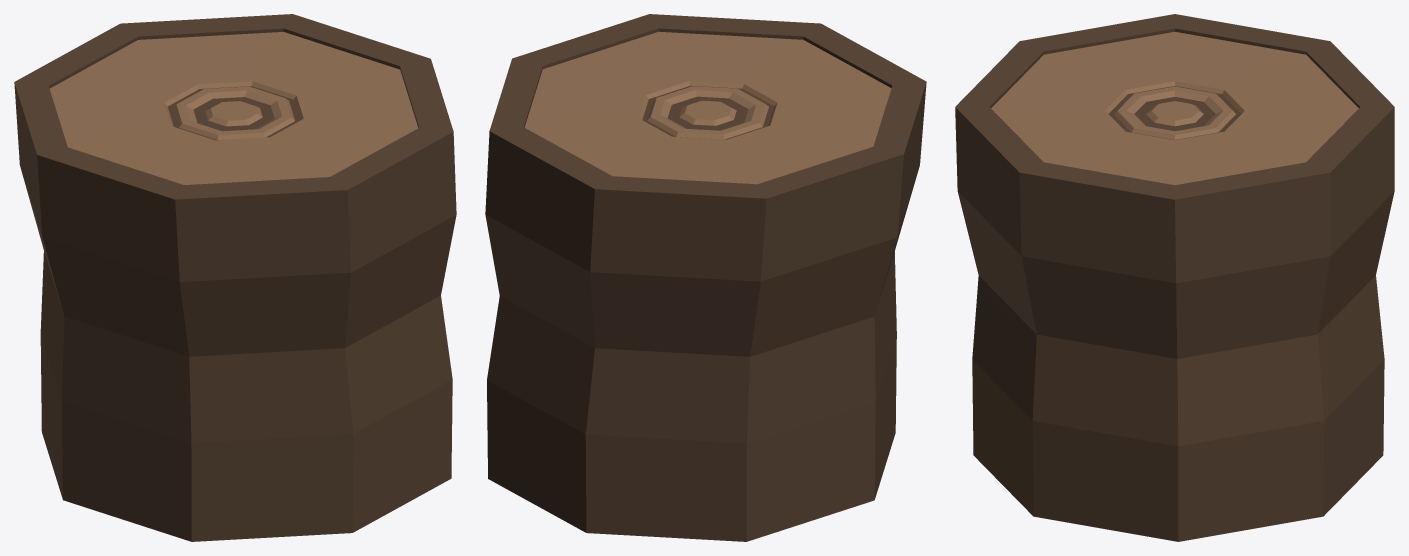
File: Chopping Block.fbx
3 views of the same model, side by side, from view 1: azimuth 30°, elevation 25°; view 2: azimuth 150°, elevation 25°; view 3: azimuth 270°, elevation 25° (orthographic). The views are drawn at different scales.
Visible parts, largest first — view 1: Chopping Block; view 2: Chopping Block; view 3: Chopping Block.
Part boxes in pixels (x1,y1,x2,y2): Chopping Block: [14, 14, 456, 541]; Chopping Block: [485, 14, 926, 541]; Chopping Block: [955, 14, 1394, 541].
Size of the model in its own units: 34.24 by 34.56 by 29.36.
